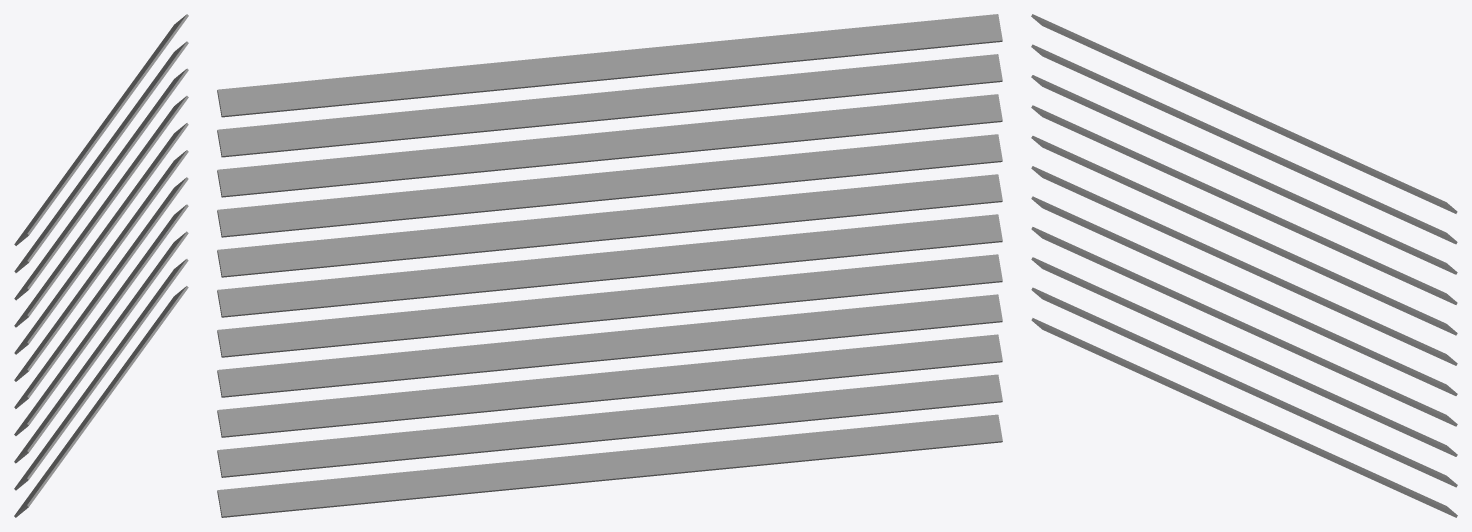
Rendered from Blinds B - 1.fbx.
3 views of the same model, side by side, from view 1: azimuth 30°, elevation 25°; view 2: azimuth 150°, elevation 25°; view 3: azimuth 270°, elevation 25° (orthographic). The views are drawn at different scales.
Visible parts, largest first — view 1: Blinds B - 1; view 2: Blinds B - 1; view 3: Blinds B - 1.
Part boxes in pixels (bbox=[...]): Blinds B - 1: bbox=[14, 14, 188, 517]; Blinds B - 1: bbox=[217, 14, 1002, 517]; Blinds B - 1: bbox=[1031, 14, 1457, 517].
Size of the model in its own units: 306 by 285 by 236.
